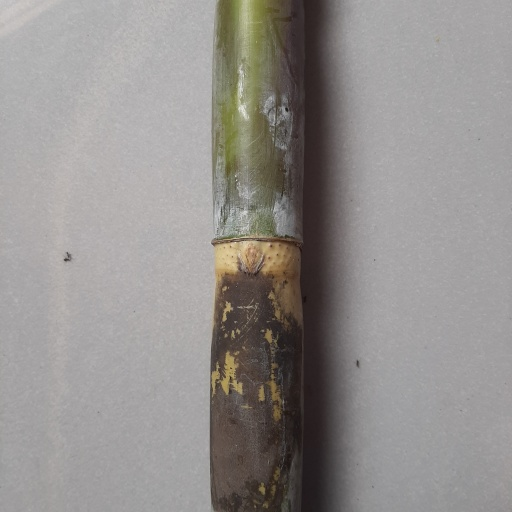Bud: (238, 243, 264, 273)
